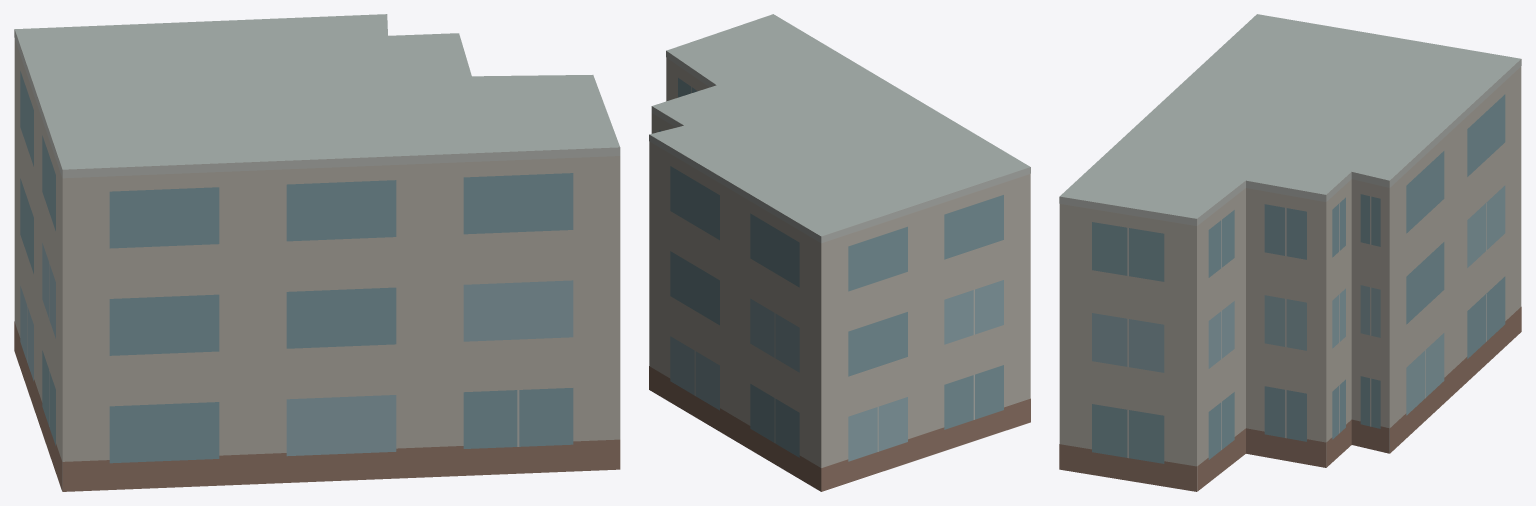
Rendered from survey-upis-32882836.glb.
3 renders of one model, left to right at view 1: azimuth 30°, elevation 25°; view 2: azimuth 150°, elevation 25°; view 3: azimuth 270°, elevation 25°, orthographic. The views are drawn at different scales.
Parts seen in each view (by area): view 1: survey-upis-32882836.tmp; view 2: survey-upis-32882836.tmp; view 3: survey-upis-32882836.tmp.
Boxes of the visible parts, x1,y1,x2,y2 form: survey-upis-32882836.tmp: (14,14,620,491); survey-upis-32882836.tmp: (649,14,1030,491); survey-upis-32882836.tmp: (1059,14,1521,491).
Size of the model in its own units: 14.73 by 9.15 by 14.04.
